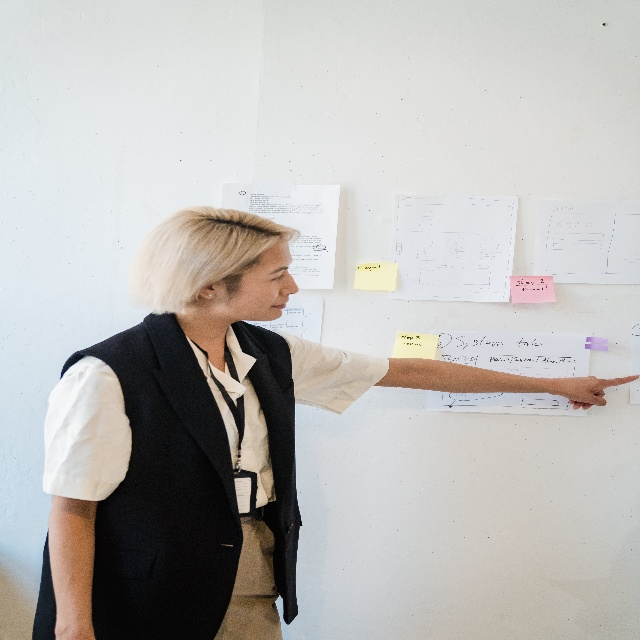Sin_guantes: (548, 374, 640, 411)
